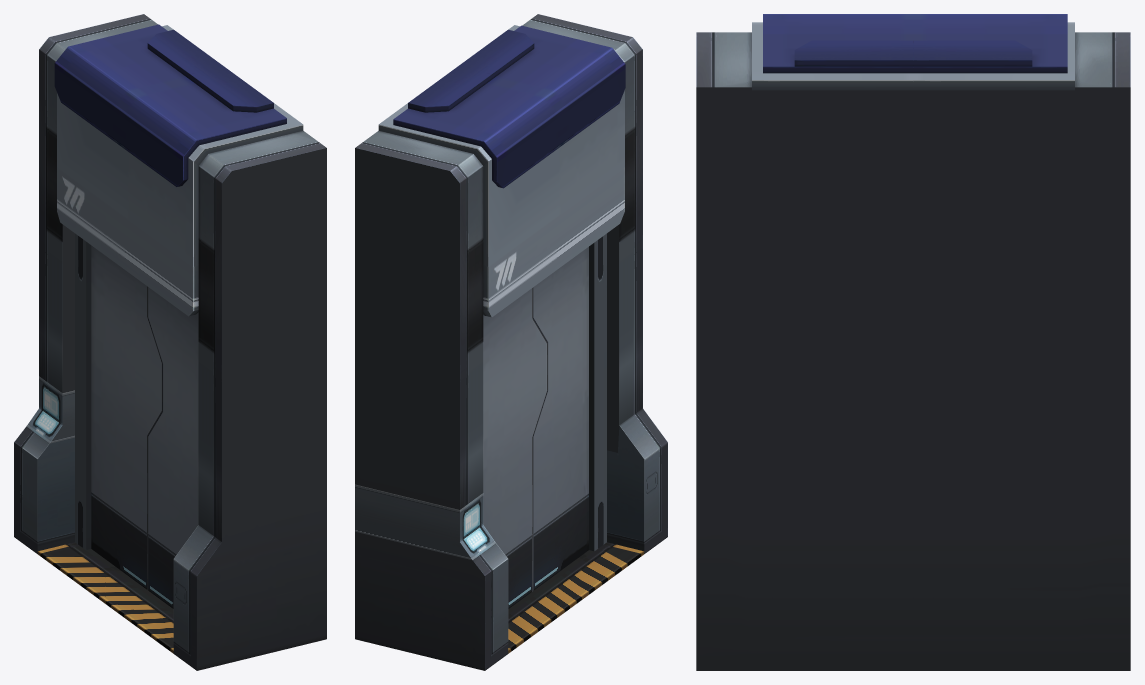
Rendered from my_carrier_01_elevator_01.glb.
The picture shows the model from 3 angles, left to right: view 1: azimuth 30°, elevation 25°; view 2: azimuth 150°, elevation 25°; view 3: azimuth 270°, elevation 25°; orthographic projection. The views are drawn at different scales.
Parts seen in each view (by area): view 1: my_carrier_01_elevator_01; view 2: my_carrier_01_elevator_01; view 3: my_carrier_01_elevator_01.
Part boxes in pixels (box(x1,y1,x2,y2)): my_carrier_01_elevator_01: box(14, 14, 326, 670); my_carrier_01_elevator_01: box(355, 14, 667, 670); my_carrier_01_elevator_01: box(696, 14, 1130, 670).
Size of the model in its own units: 0.0048 by 0.018 by 0.0117.
Materials: 1 (1 with a texture image).
